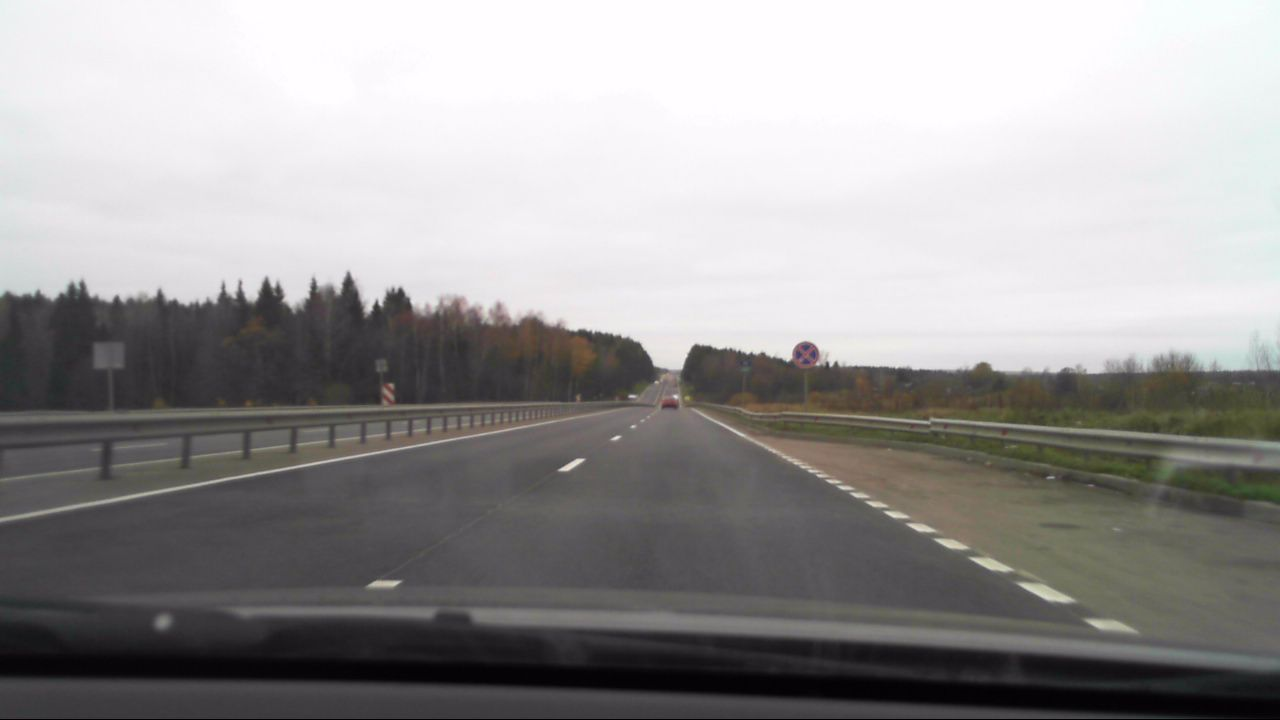No Parking: (791, 342, 820, 371)
